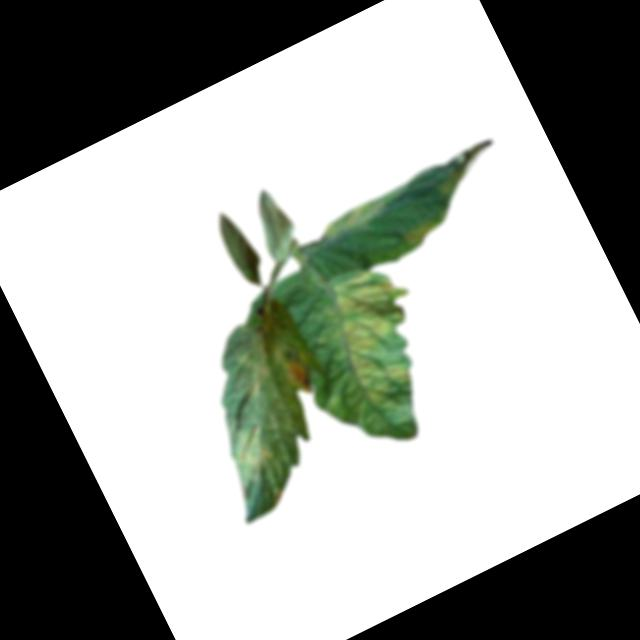Leaf_Mold: (295, 251, 454, 431), (316, 180, 415, 247), (424, 133, 511, 202), (223, 323, 297, 403), (224, 418, 282, 481), (275, 341, 320, 397), (396, 209, 451, 254)
